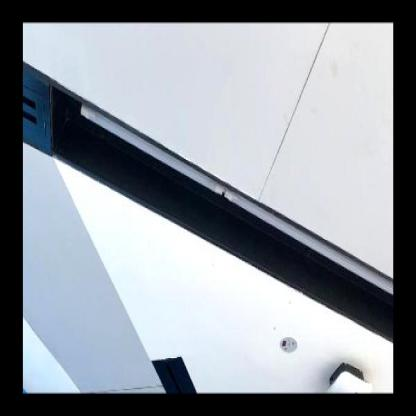light_off: (75, 89, 393, 326)
